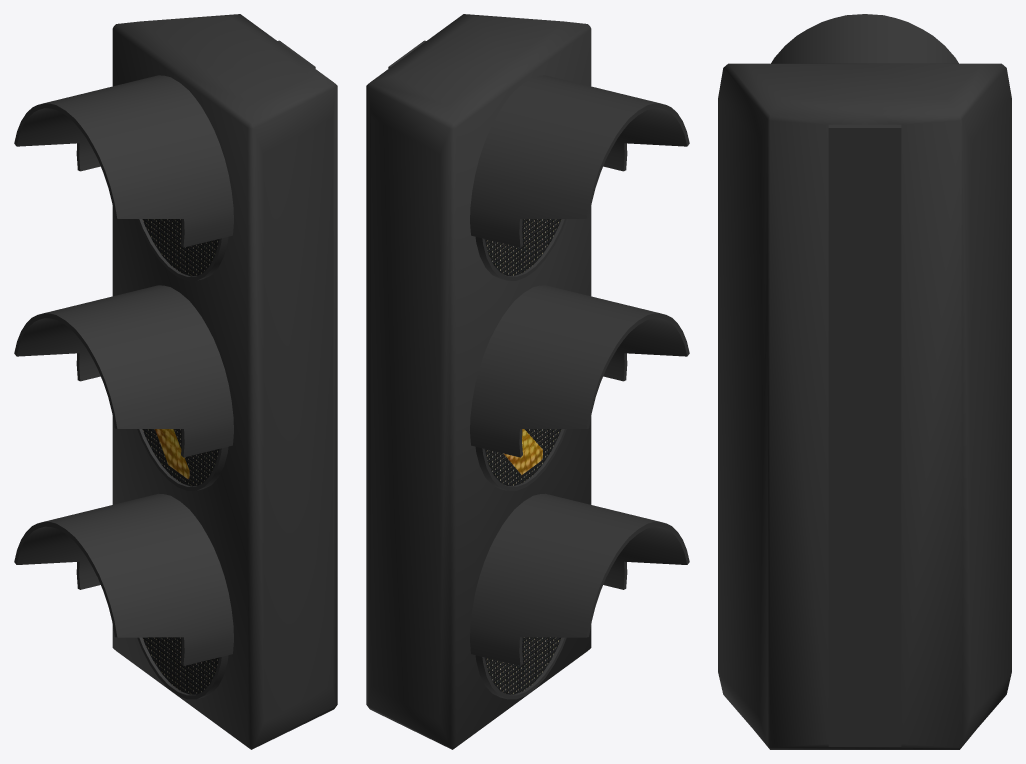
The model's file is 竖排左转灯_YellowLight.fbx.
3 renders of one model, left to right at view 1: azimuth 30°, elevation 25°; view 2: azimuth 150°, elevation 25°; view 3: azimuth 270°, elevation 25°, orthographic.
Visible parts, largest first — view 1: 竖排左转灯_YellowLight; view 2: 竖排左转灯_YellowLight; view 3: 竖排左转灯_YellowLight.
Boxes of the visible parts, x1,y1,x2,y2 form: 竖排左转灯_YellowLight: (14,14,337,749); 竖排左转灯_YellowLight: (366,14,689,749); 竖排左转灯_YellowLight: (718,14,1011,749).
Bounding box in the file's own units: 0.6 × 1.58 × 0.65.
Materials: 3 (2 with a texture image).
